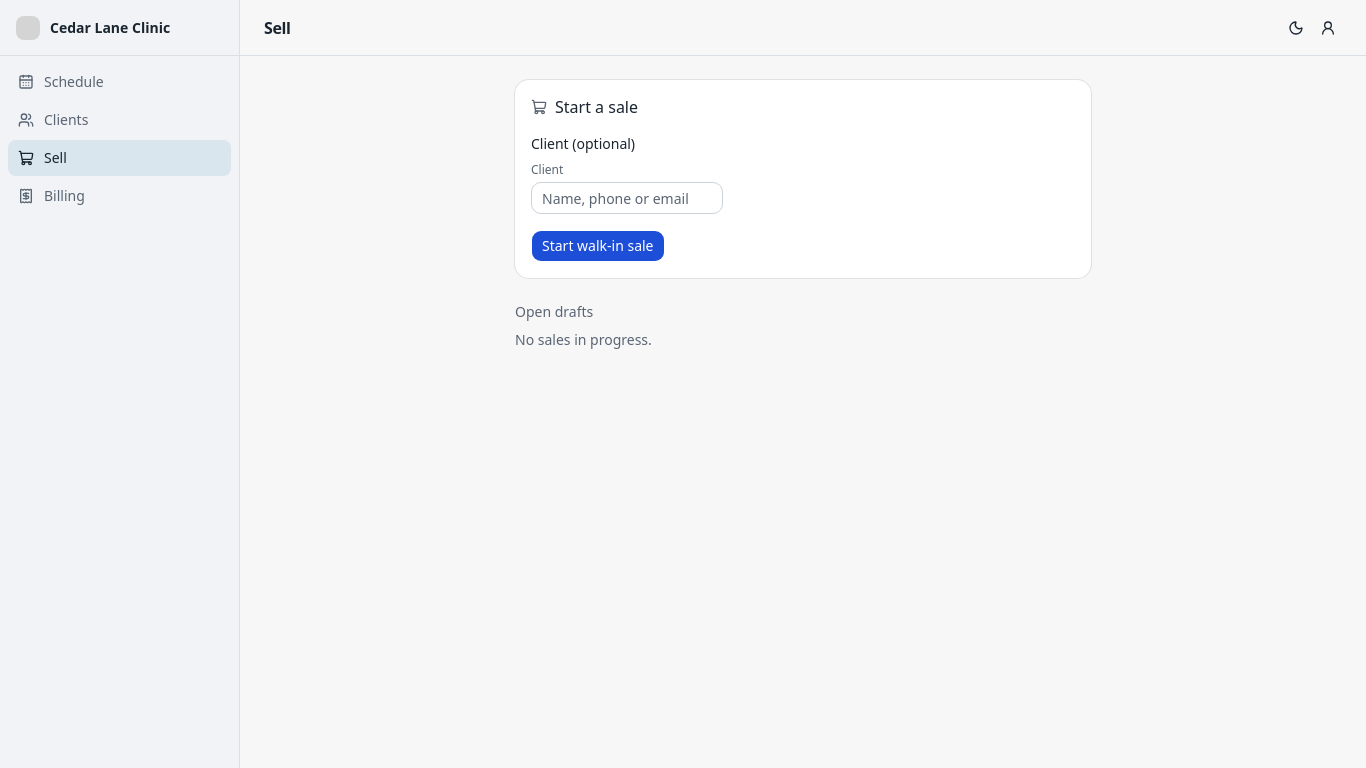
Test case: a 409 on issue reads "only N left"
Click the button "Start walk-in sale" at (598, 246), box [531,230,664,262]
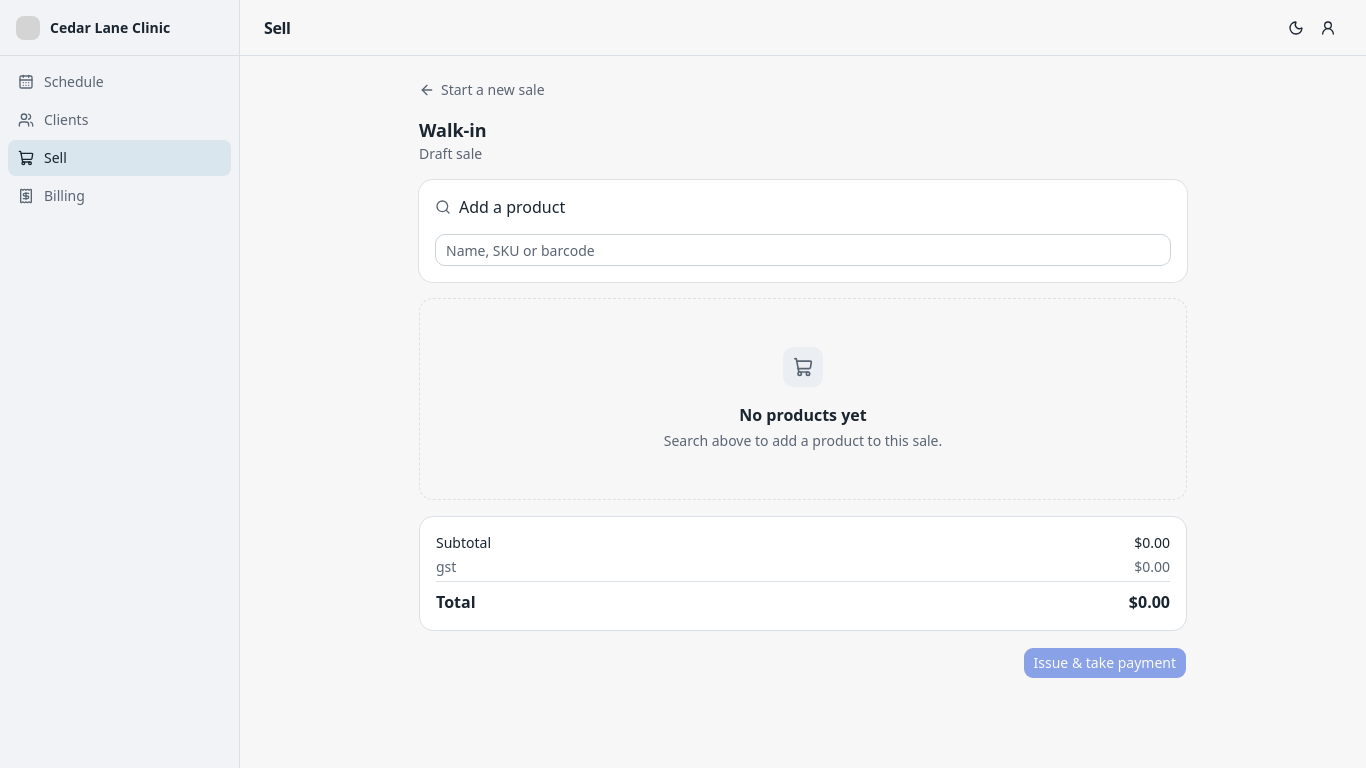
Type "Shampoo" into the field named "Search products" at (803, 250), box [435,234,1171,266]
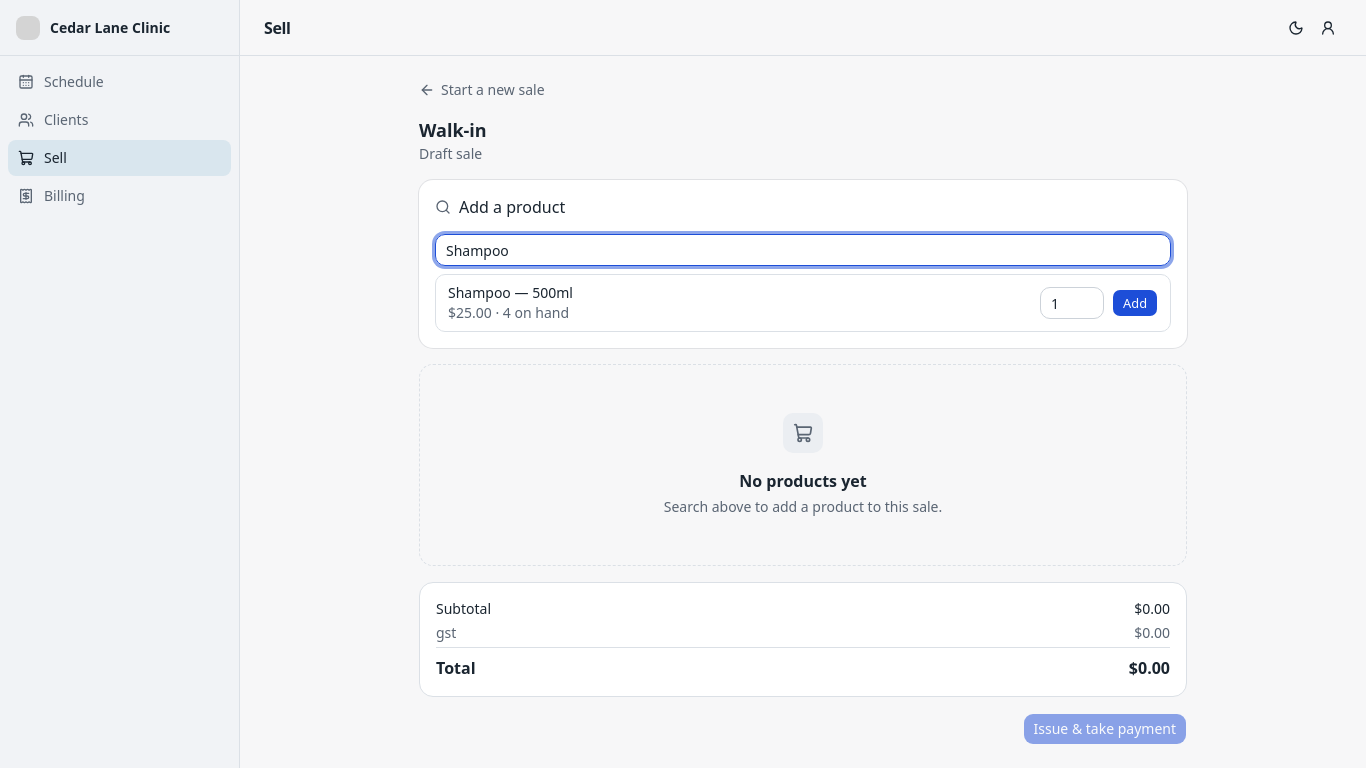
Click the button "Add" at (1135, 303), box [1112,289,1158,317]
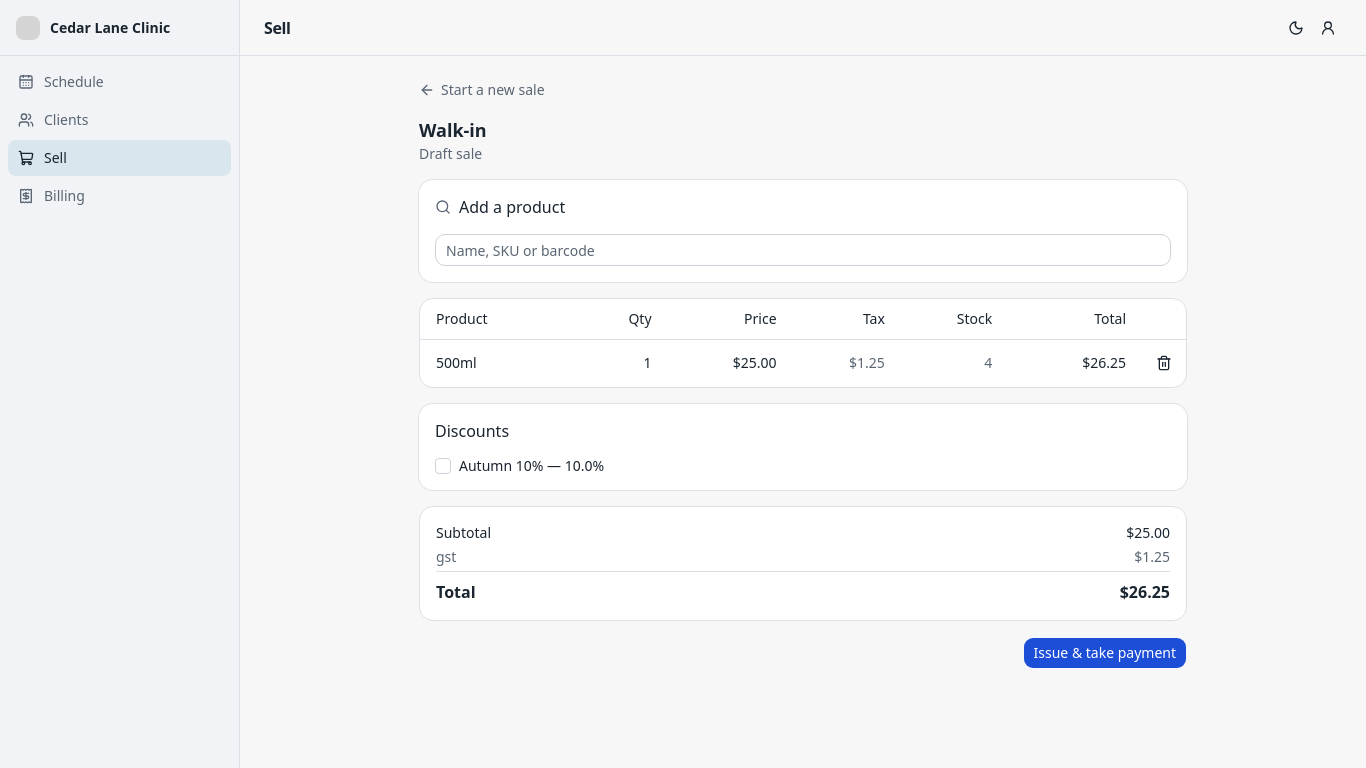
Click the button "Issue & take payment" at (1105, 653), box [1022,637,1187,669]
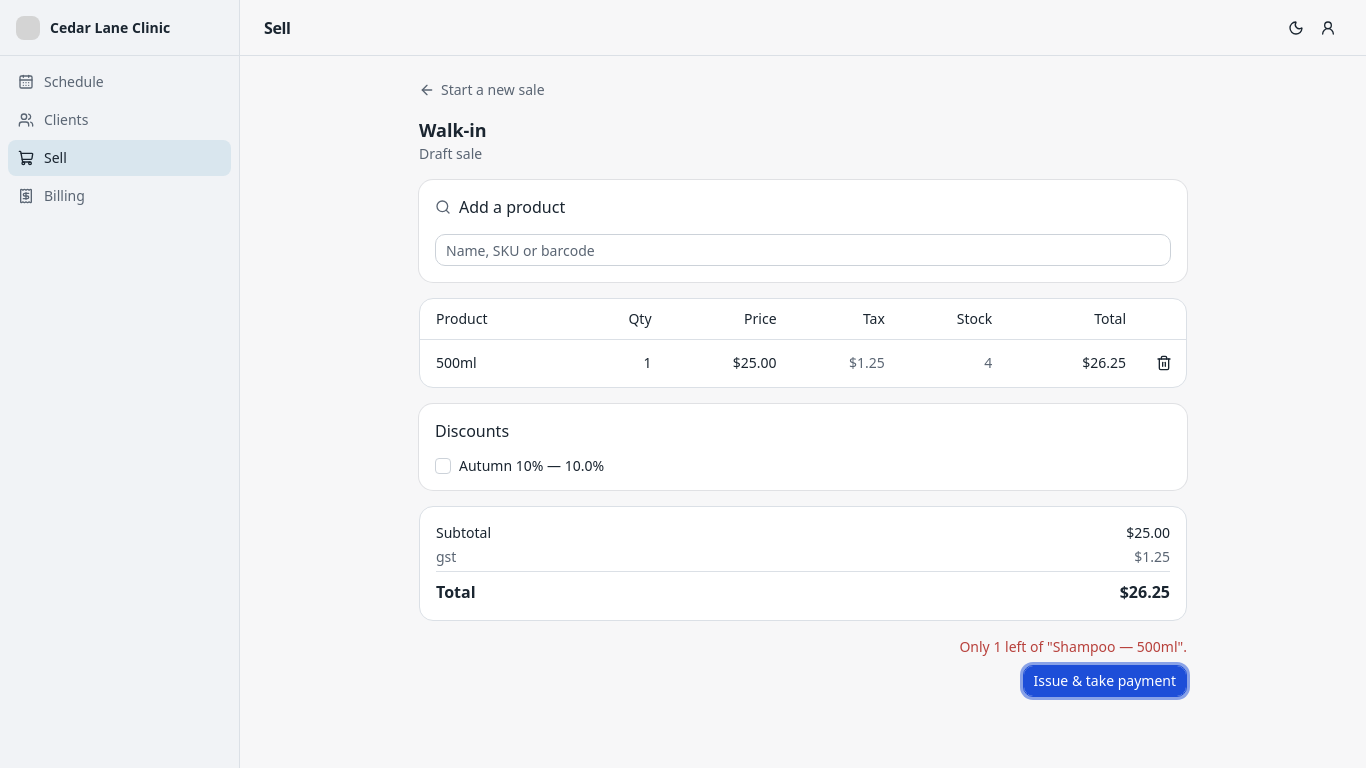
Expected: the message reads "Only 1 left of \"Shampoo — 500ml\".", [959,637,1187,657]
